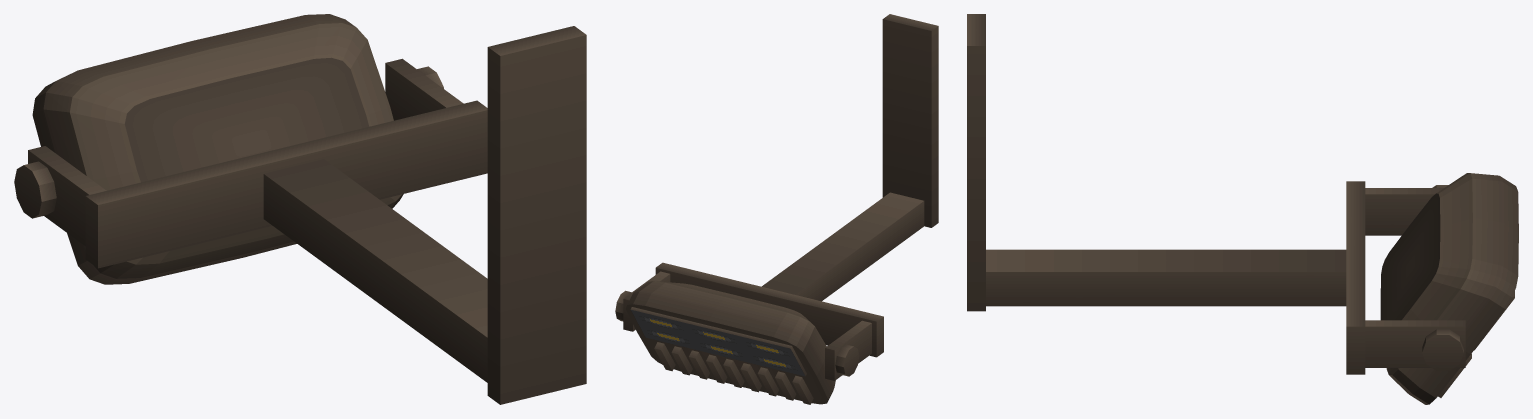
The model's file is floodlight_lithdsxf2yk_x.obj.
The picture shows the model from 3 angles, left to right: view 1: azimuth 30°, elevation 25°; view 2: azimuth 150°, elevation 25°; view 3: azimuth 270°, elevation 25°; orthographic projection. The views are drawn at different scales.
Visible parts, largest first — view 1: fixture; view 2: fixture; view 3: fixture.
Part boxes in pixels (box(x1,y1,x2,y2)): fixture: box(14, 14, 586, 404); fixture: box(615, 14, 938, 404); fixture: box(967, 14, 1518, 404).
Bounding box in the file's own units: 0.5848 × 0.596 × 0.9092.
